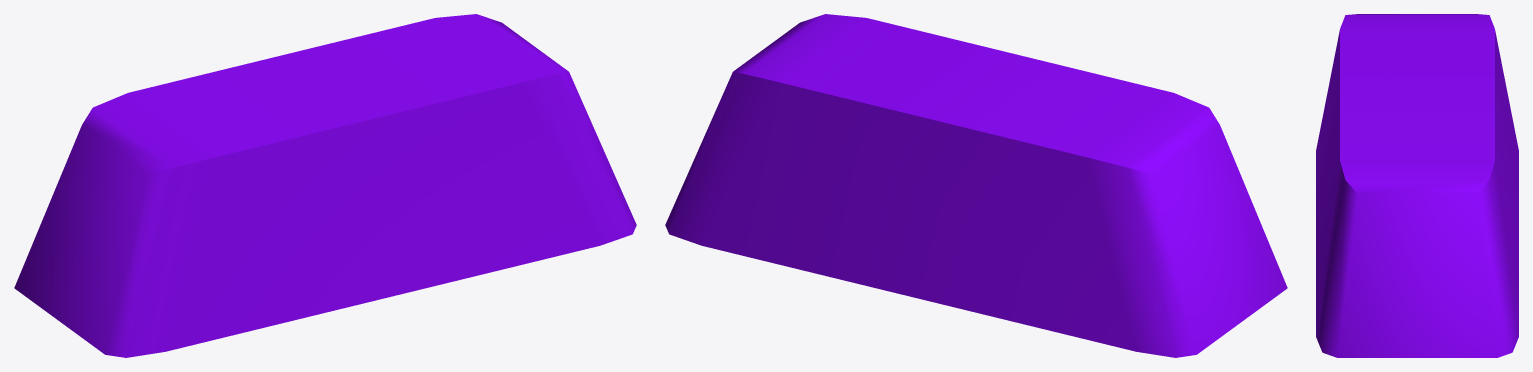
3 renders of one model, left to right at view 1: azimuth 30°, elevation 25°; view 2: azimuth 150°, elevation 25°; view 3: azimuth 270°, elevation 25°, orthographic. The views are drawn at different scales.
Parts seen in each view (by area): view 1: AmethsyNugget; view 2: AmethsyNugget; view 3: AmethsyNugget.
Boxes of the visible parts, x1=… form: AmethsyNugget: x1=14, y1=14, x2=636, y2=357; AmethsyNugget: x1=665, y1=14, x2=1287, y2=357; AmethsyNugget: x1=1316, y1=14, x2=1518, y2=357.
Bounding box in the file's own units: 197 × 59.89 × 73.86.
